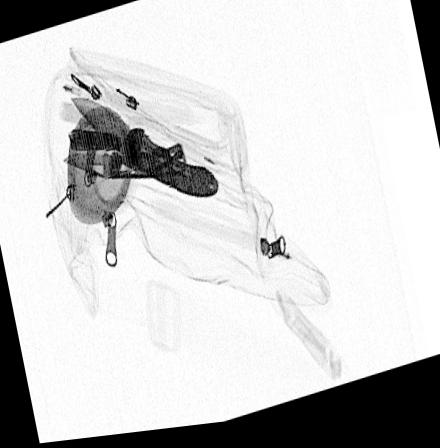Knife: (71, 99, 218, 203), (61, 147, 186, 183)
